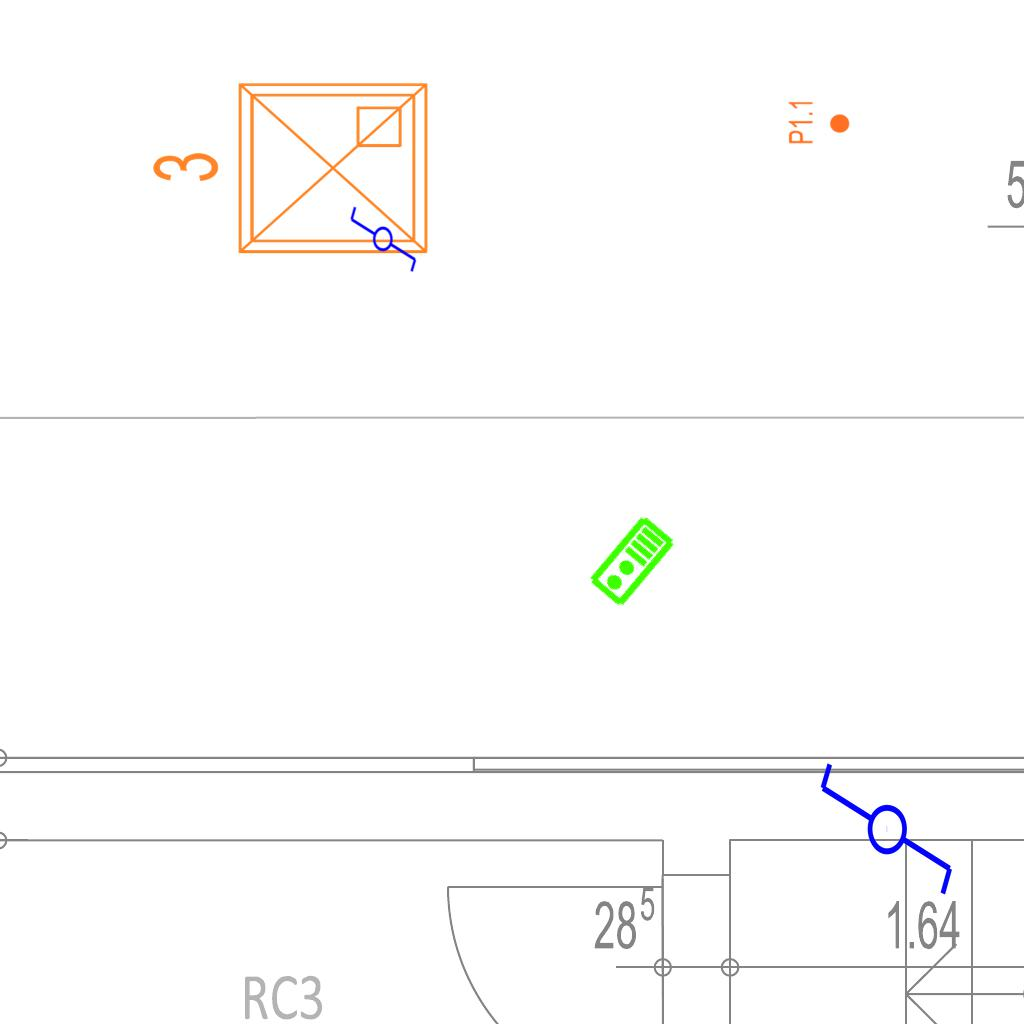Downlight_LED_Einbauleuchten_Flur: (787, 99, 851, 145)
Einbaudownlights_LED_Konferenzraeume: (142, 68, 442, 276)
Gegensprechanlage_mit_Video: (586, 513, 679, 611)
Wechselschalter: (813, 759, 957, 916), (348, 196, 420, 274)
